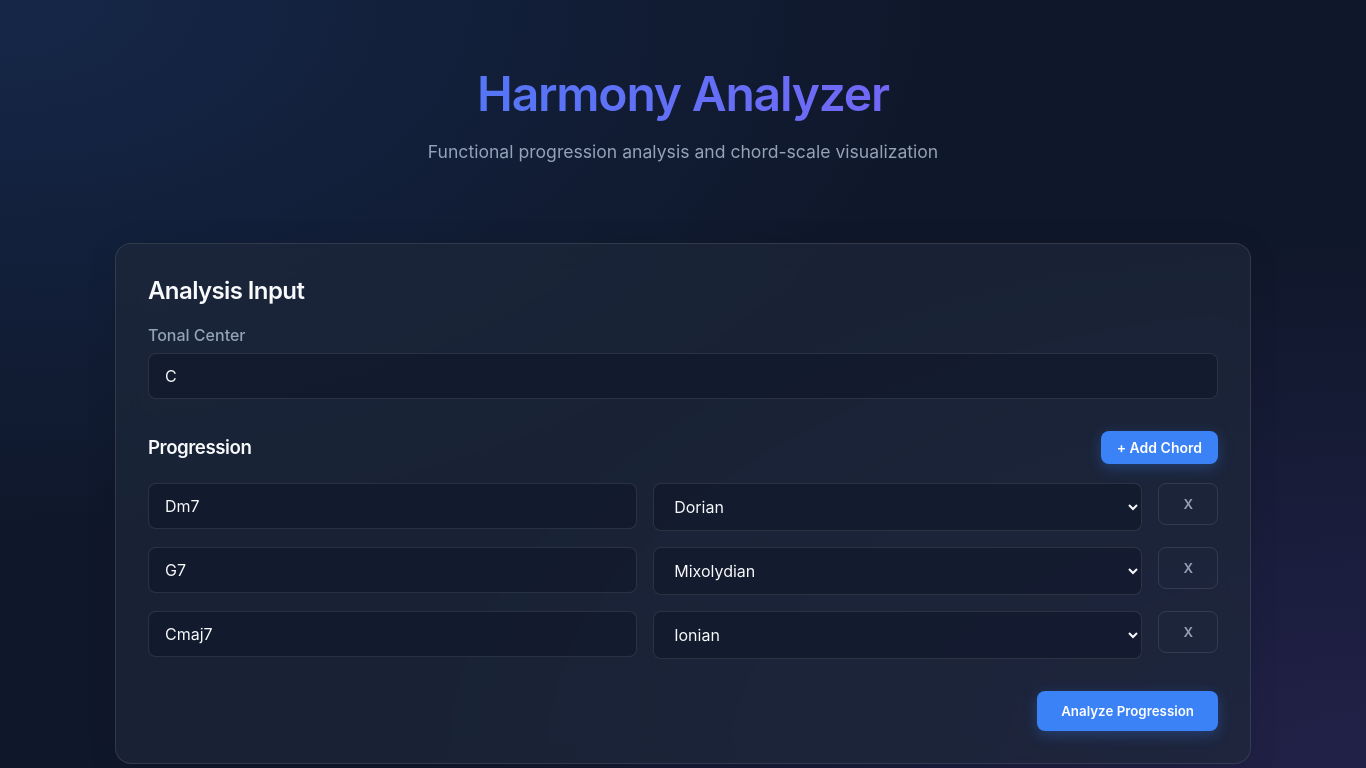
Test: App Integration › handles 422 validation errors and shows field errors
Click the button "Analyze Progression". click: coordinates (1128, 711)
box: [1037,691,1218,731]
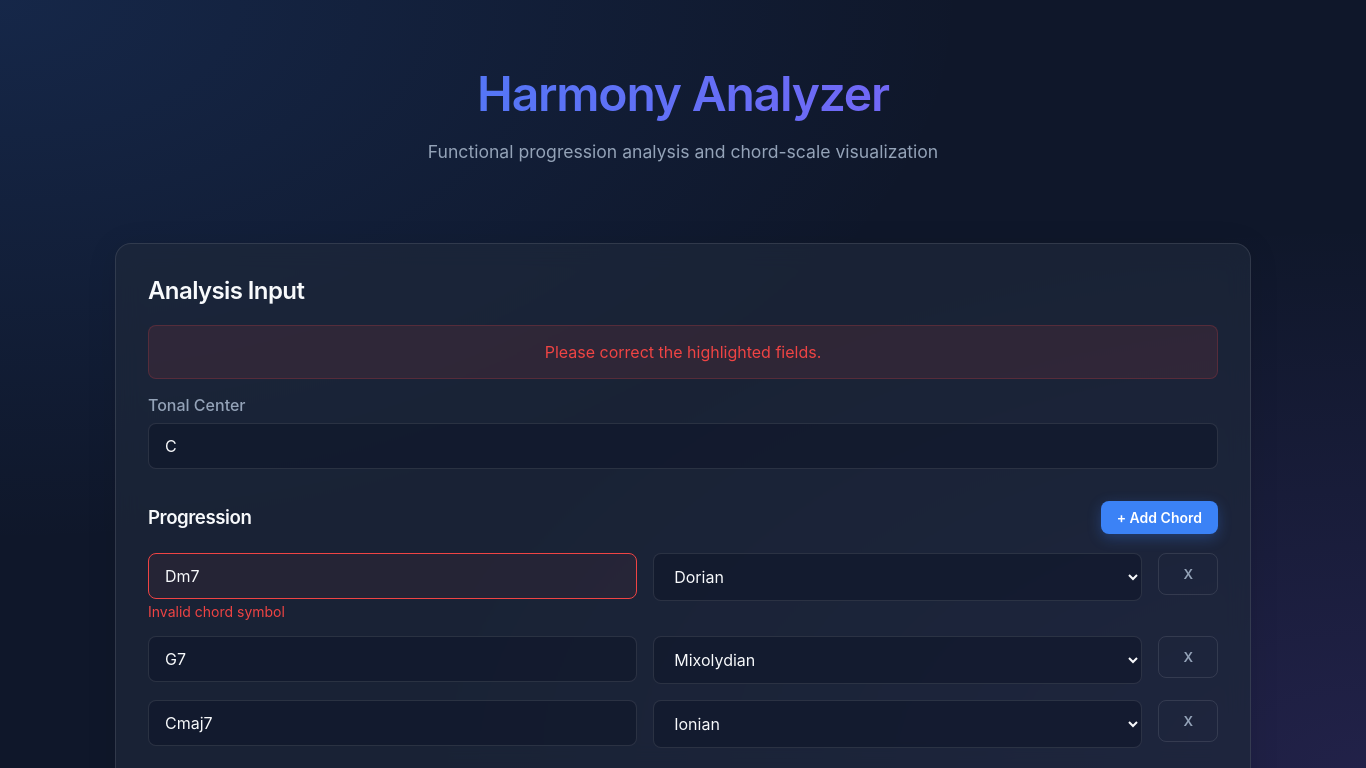
Check: the text "Please correct the highlighted fields." is shown, box [148,325,1218,379]
Check: the text "Invalid chord symbol" is shown, box [148,603,285,620]
